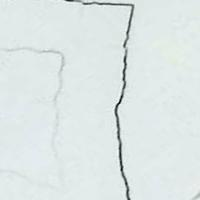crack: (71, 0, 146, 199)
